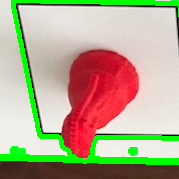Red Knight: (57, 44, 140, 158)
